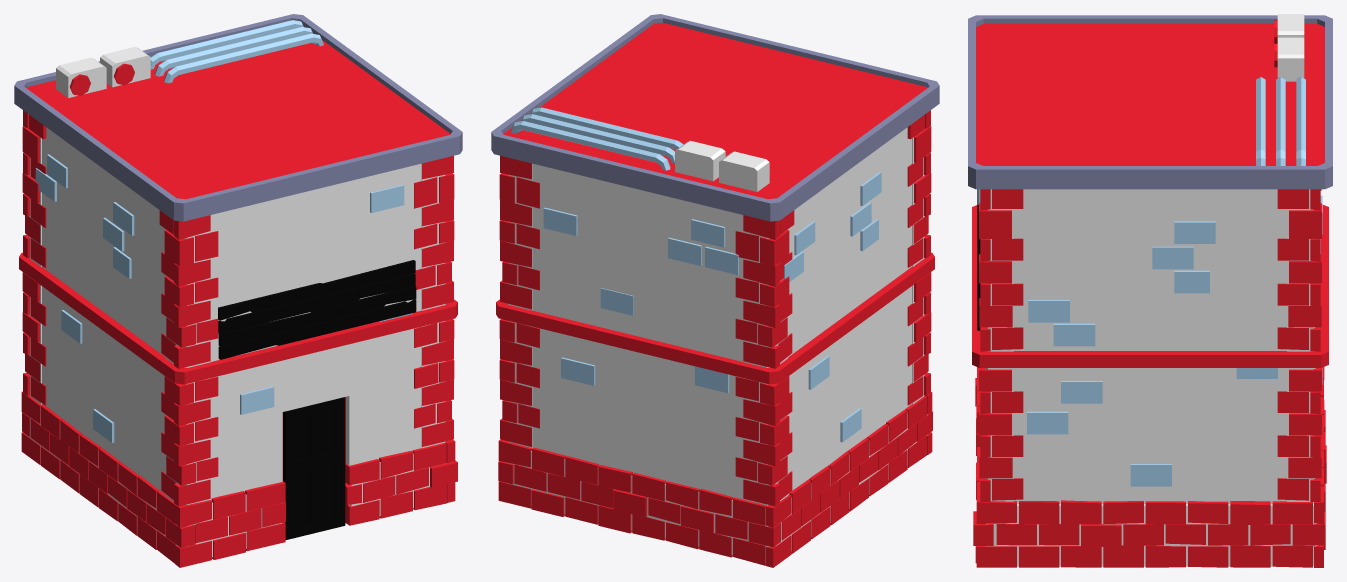
Rendered from building_quaternius_2Story_Sign.glb.
3 renders of one model, left to right at view 1: azimuth 30°, elevation 25°; view 2: azimuth 150°, elevation 25°; view 3: azimuth 270°, elevation 25°, orthographic. The views are drawn at different scales.
Bounding box in the file's own units: 2.15 × 2.76 × 2.15.
1 material, 1 textured.
